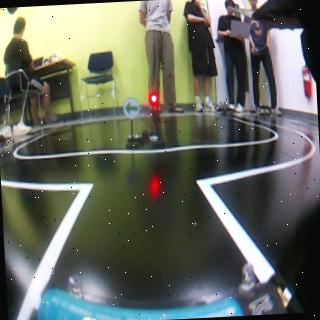left: (124, 98, 140, 120)
red: (150, 91, 163, 145)
